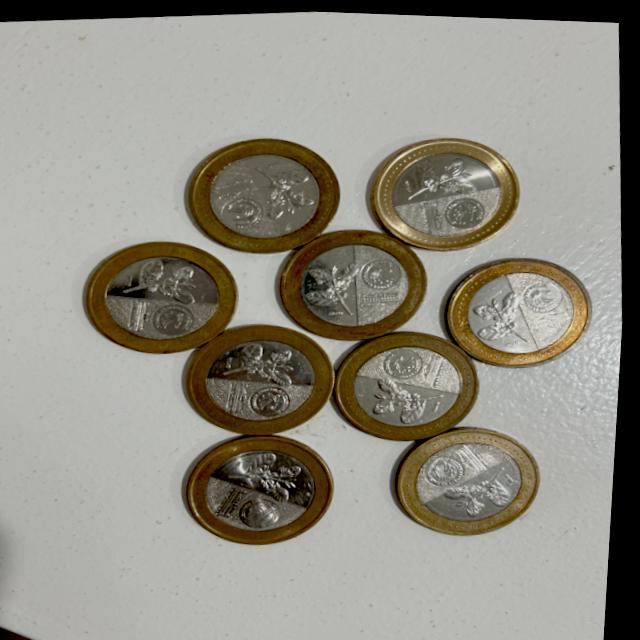20_New_Back: (468, 275, 546, 356), (397, 140, 490, 207), (365, 355, 450, 425)
